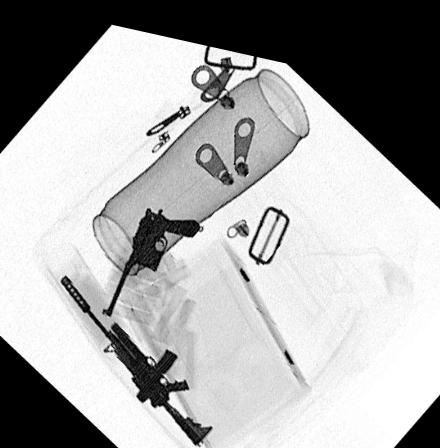Gun: (57, 270, 213, 438), (100, 199, 199, 312)
